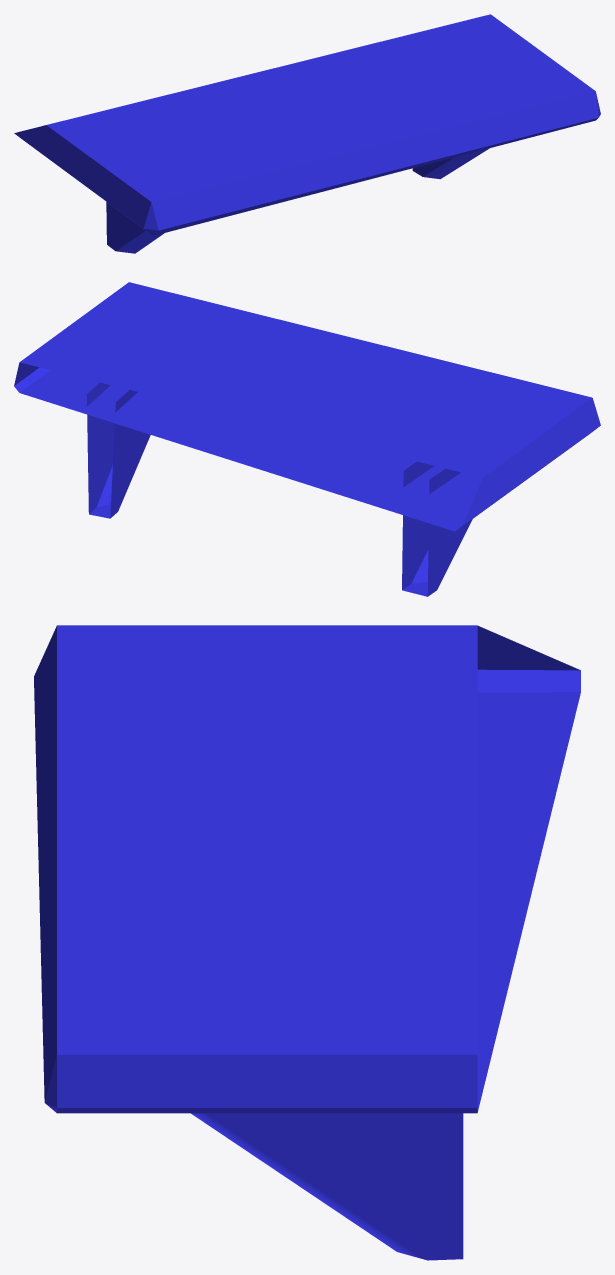
The model's file is shelf.FBX.
3 renders of one model, top to bottom at view 1: azimuth 30°, elevation 25°; view 2: azimuth 150°, elevation 25°; view 3: azimuth 270°, elevation 25°, orthographic. The views are drawn at different scales.
Visible parts, largest first — view 1: shelf; view 2: shelf; view 3: shelf.
Boxes of the visible parts, x1=… form: shelf: x1=14, y1=14, x2=600, y2=253; shelf: x1=14, y1=282, x2=600, y2=596; shelf: x1=34, y1=625, x2=580, y2=1260.
Size of the model in its own units: 5.32 by 1.48 by 2.75.
